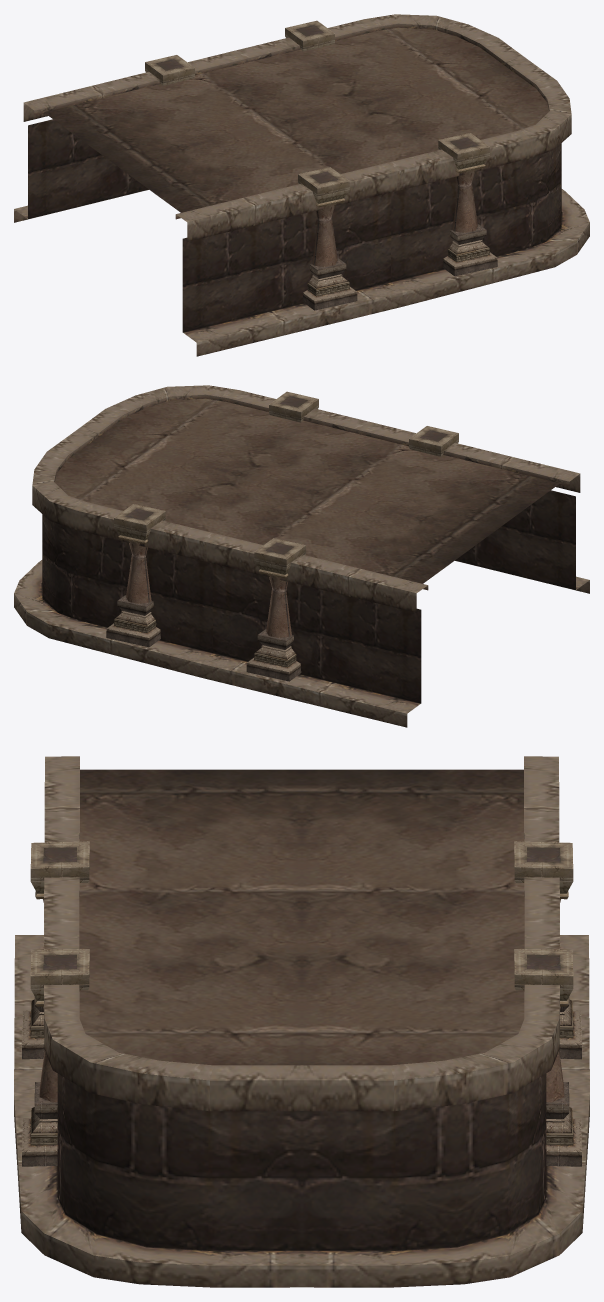
File: blsd_shix_03.FBX
3 renders of one model, top to bottom at view 1: azimuth 30°, elevation 25°; view 2: azimuth 150°, elevation 25°; view 3: azimuth 270°, elevation 25°, orthographic. The views are drawn at different scales.
Parts seen in each view (by area): view 1: bksd_shix_03; view 2: bksd_shix_03; view 3: bksd_shix_03.
Boxes of the visible parts, box(x1,y1,x2,y2) form: bksd_shix_03: box(14, 14, 589, 356); bksd_shix_03: box(14, 385, 589, 727); bksd_shix_03: box(14, 756, 589, 1287).
Size of the model in its own units: 558 by 166 by 410.
